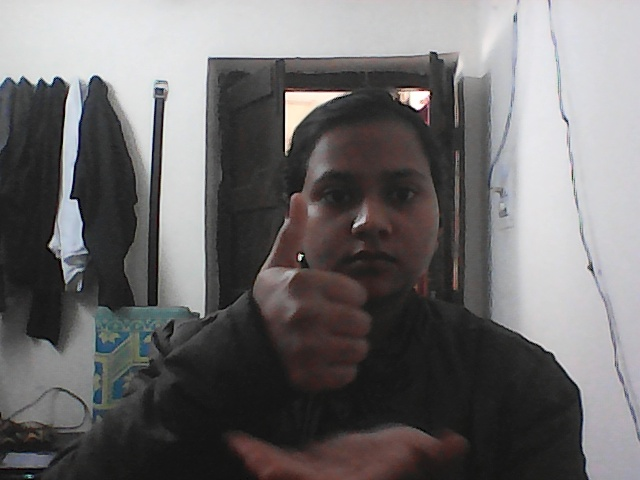Help: (172, 182, 484, 477)
